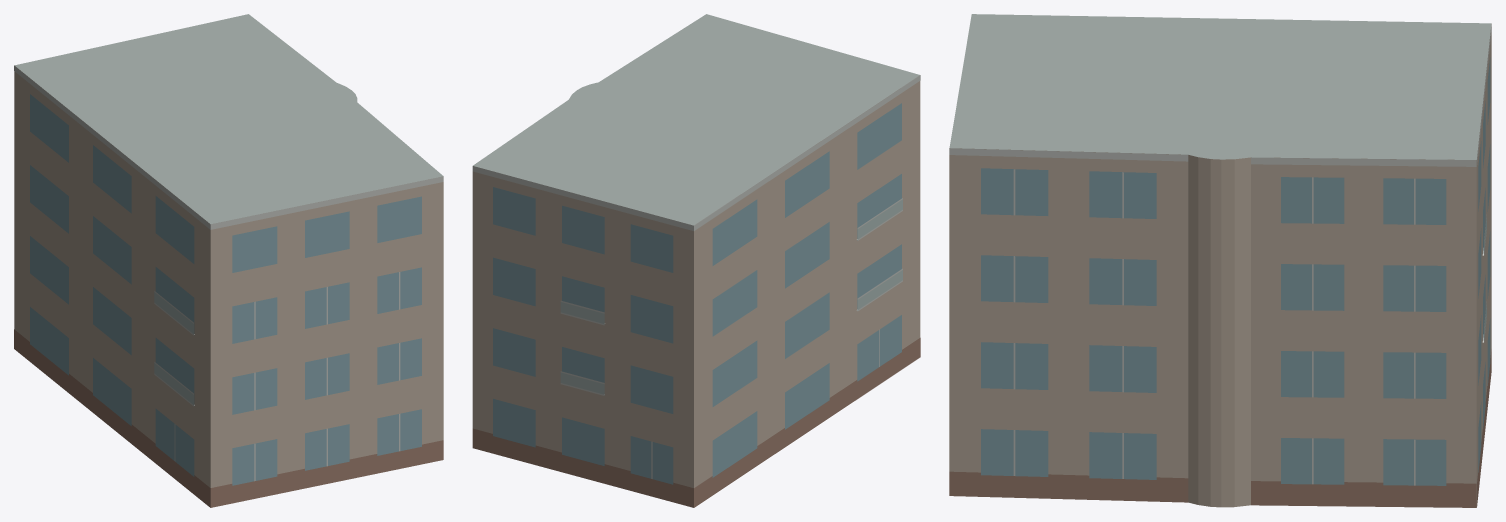
The model's file is survey-upis-32881891.glb.
The picture shows the model from 3 angles, left to right: view 1: azimuth 30°, elevation 25°; view 2: azimuth 150°, elevation 25°; view 3: azimuth 270°, elevation 25°; orthographic projection. The views are drawn at different scales.
Parts seen in each view (by area): view 1: survey-upis-32881891.tmp; view 2: survey-upis-32881891.tmp; view 3: survey-upis-32881891.tmp.
Boxes of the visible parts, <box> form: survey-upis-32881891.tmp: <box>14,14,443,507</box>; survey-upis-32881891.tmp: <box>472,14,920,507</box>; survey-upis-32881891.tmp: <box>949,14,1491,507</box>.
Size of the model in its own units: 11.08 by 12.3 by 17.38.
